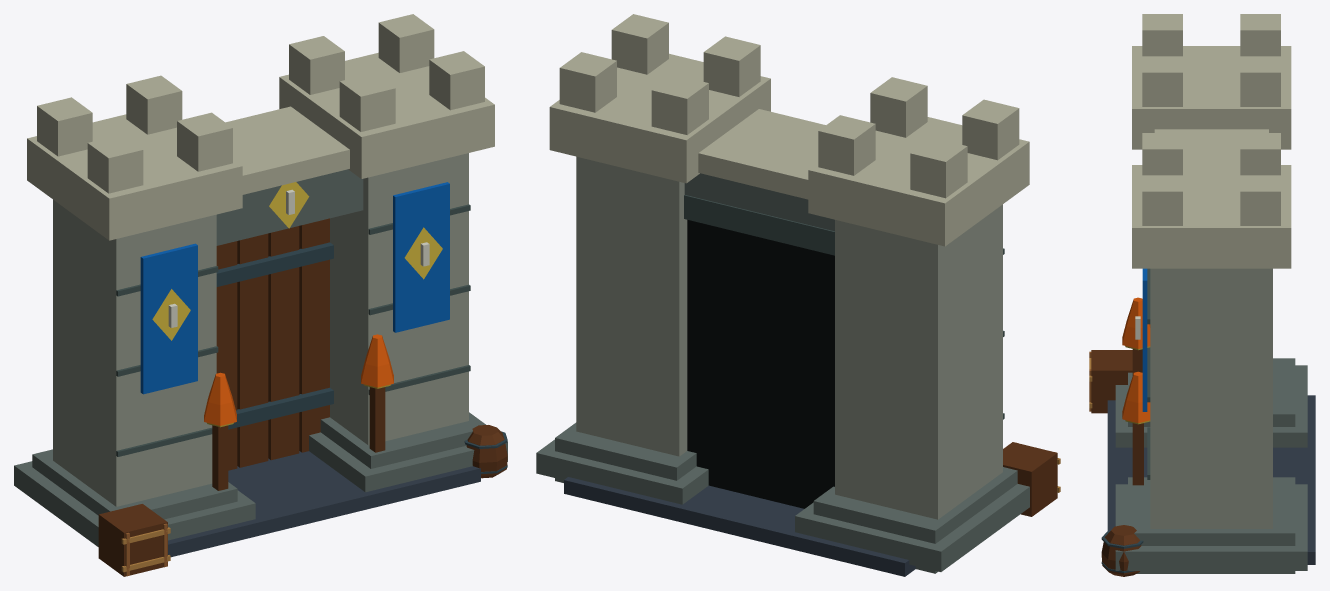
Rendered from castle_gate_l2.fbx.
3 renders of one model, left to right at view 1: azimuth 30°, elevation 25°; view 2: azimuth 150°, elevation 25°; view 3: azimuth 270°, elevation 25°, orthographic. The views are drawn at different scales.
Visible parts, largest first — view 1: castle_gate_l2; view 2: castle_gate_l2; view 3: castle_gate_l2.
Part boxes in pixels (x1,y1,x2,y2): castle_gate_l2: [14, 14, 507, 576]; castle_gate_l2: [536, 14, 1060, 576]; castle_gate_l2: [1089, 14, 1315, 576].
Bounding box in the file's own units: 2.19 × 2.08 × 1.11.
